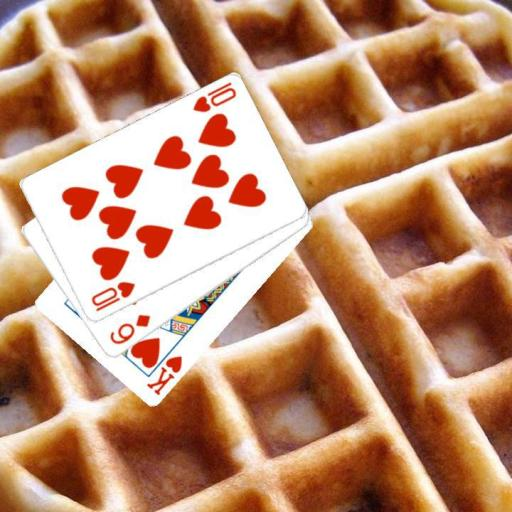10H: (88, 278, 137, 314), (189, 80, 238, 115)
6D: (106, 312, 152, 347)
KH: (143, 353, 184, 398)
